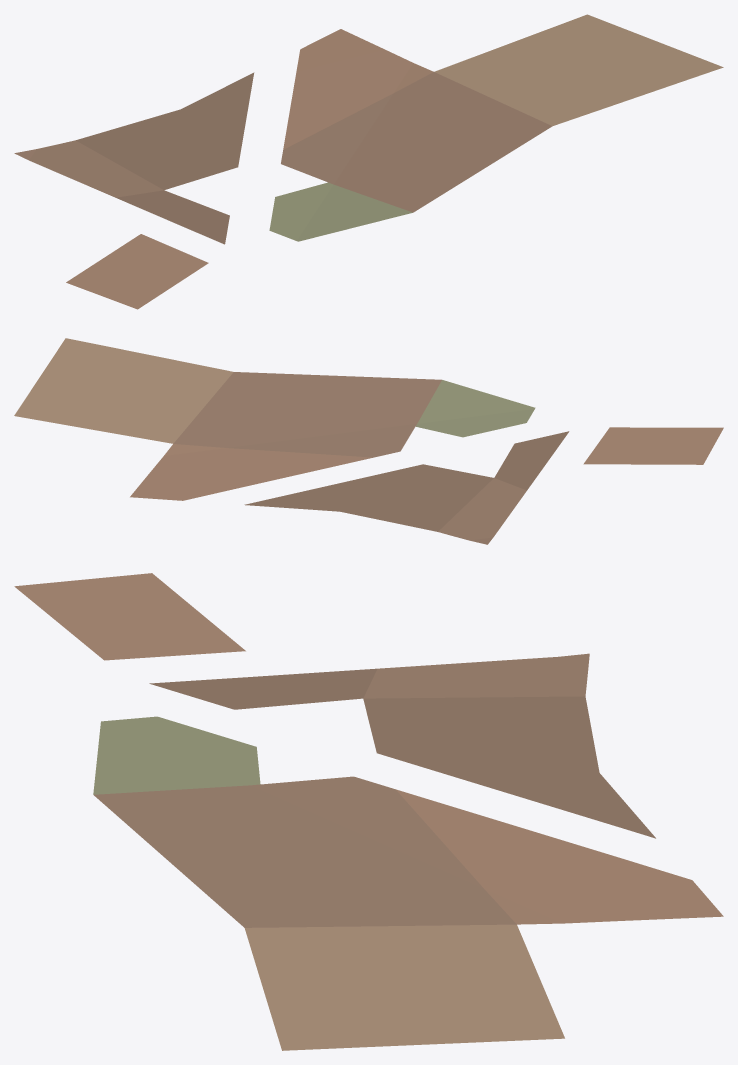
Rendered from farm_37_28_soil.glb.
3 views of the same model, one above another, from view 1: azimuth 30°, elevation 25°; view 2: azimuth 150°, elevation 25°; view 3: azimuth 270°, elevation 25° (orthographic). The views are drawn at different scales.
Parts seen in each view (by area): view 1: geometry_0; view 2: geometry_0; view 3: geometry_0.
Part boxes in pixels (left/top/right/bottom): geometry_0: left=14, top=14, right=723, bottom=309; geometry_0: left=14, top=338, right=723, bottom=544; geometry_0: left=14, top=573, right=723, bottom=1050.
Bounding box in the file's own units: 147 × 3.64 × 89.43.
